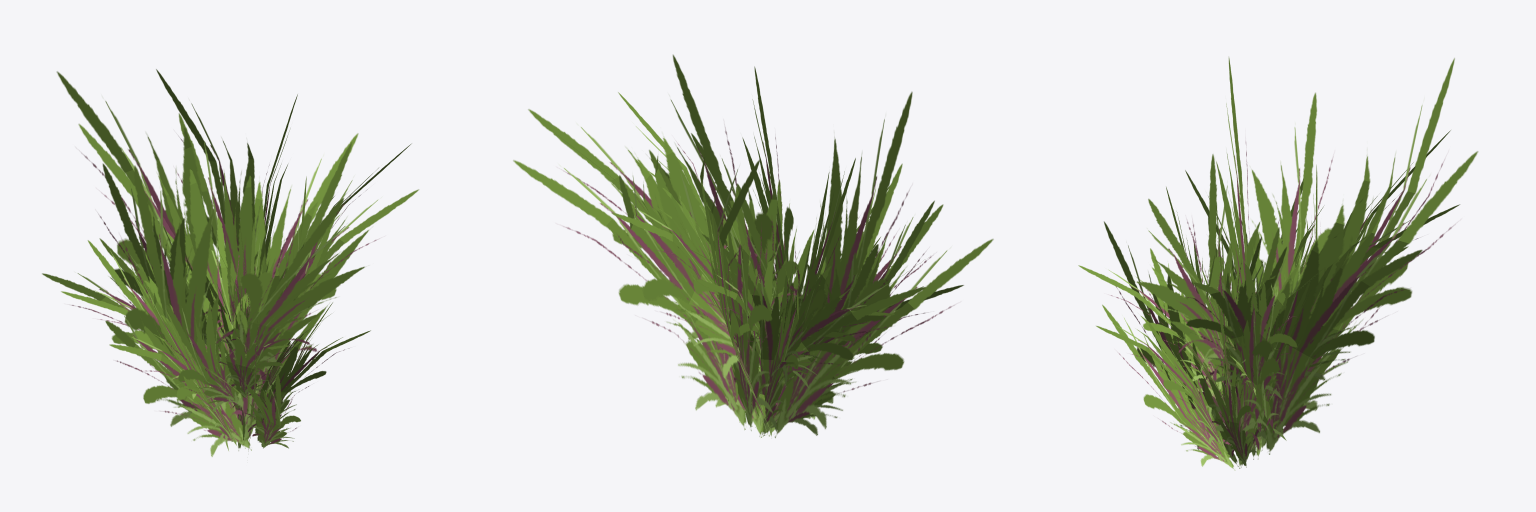
The model's file is Plant_9.glb.
3 views of the same model, side by side, from view 1: azimuth 30°, elevation 25°; view 2: azimuth 150°, elevation 25°; view 3: azimuth 270°, elevation 25° (orthographic). The views are drawn at different scales.
Parts seen in each view (by area): view 1: Plant_9; view 2: Plant_9; view 3: Plant_9.
Part boxes in pixels (bbox=[...]): Plant_9: bbox=[42, 69, 418, 456]; Plant_9: bbox=[513, 55, 993, 437]; Plant_9: bbox=[1078, 57, 1478, 470].
Size of the model in its own units: 1.09 by 1.1 by 0.9919.
Materials: 1 (1 with a texture image).
